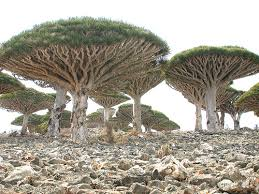ground: (5, 131, 256, 193)
tree: (12, 16, 158, 141), (168, 40, 256, 140)
